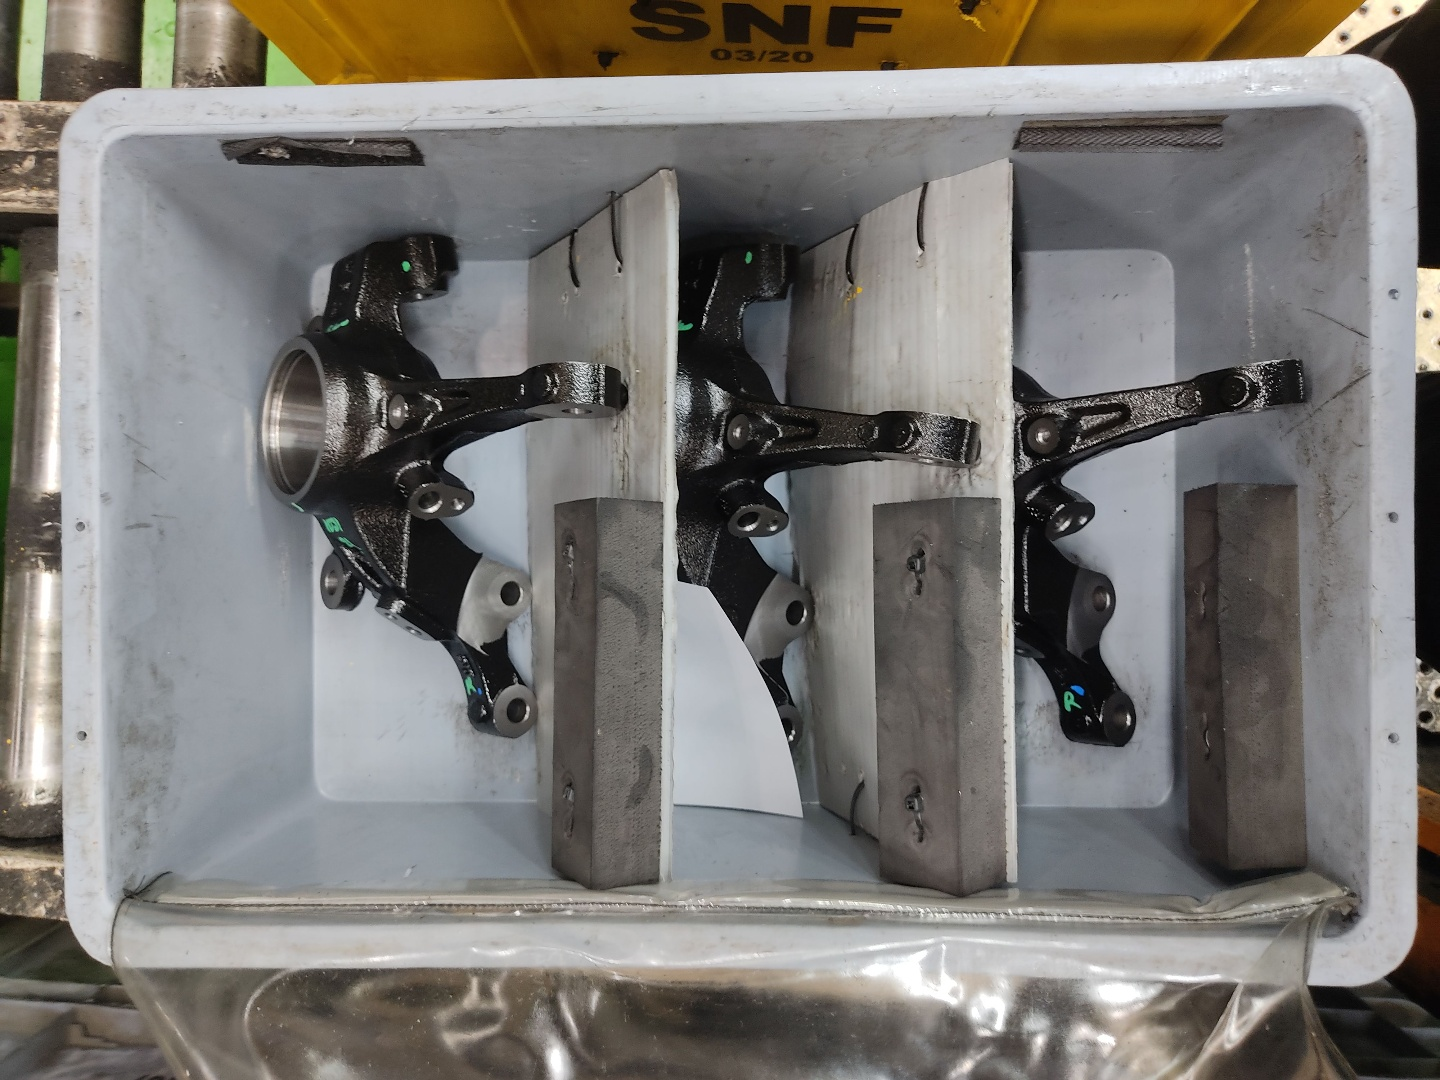abs-rh: (253, 227, 632, 745), (657, 231, 985, 786), (996, 252, 1315, 773)
